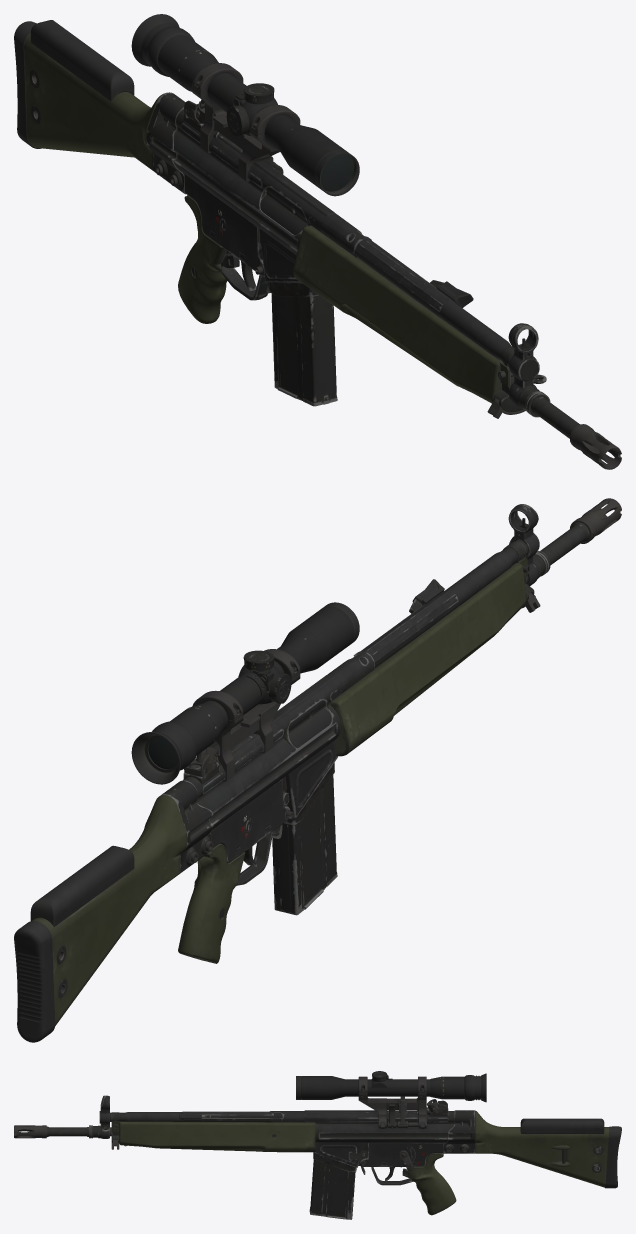
The picture shows the model from 3 angles, top to bottom: view 1: azimuth 30°, elevation 25°; view 2: azimuth 150°, elevation 25°; view 3: azimuth 270°, elevation 25°; orthographic projection. The views are drawn at different scales.
Visible parts, largest first — view 1: G3SG1_CS2_weapon_snip_g3sg1_0; view 2: G3SG1_CS2_weapon_snip_g3sg1_0; view 3: G3SG1_CS2_weapon_snip_g3sg1_0.
Part boxes in pixels (x1,y1,x2,y2): G3SG1_CS2_weapon_snip_g3sg1_0: [14, 14, 621, 469]; G3SG1_CS2_weapon_snip_g3sg1_0: [14, 498, 621, 1042]; G3SG1_CS2_weapon_snip_g3sg1_0: [14, 1071, 621, 1219].
Bounding box in the file's own units: 0.0611 × 0.2819 × 1.09.
1 material, 1 textured.
